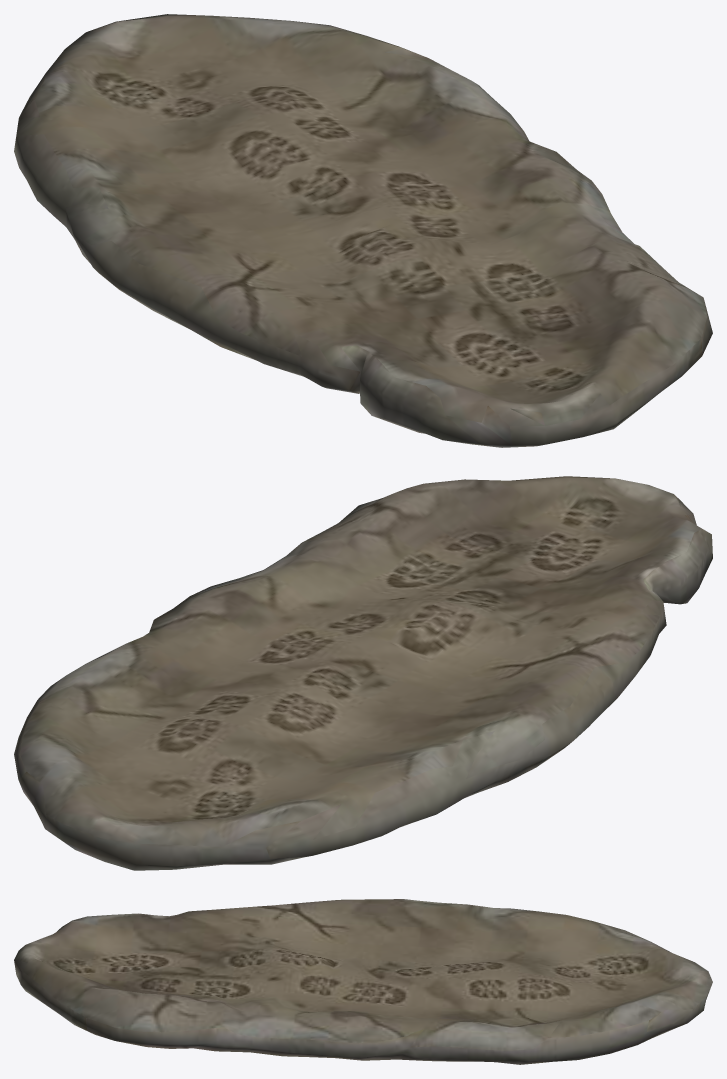
The model's file is mt_pegadas.glb.
3 views of the same model, one above another, from view 1: azimuth 30°, elevation 25°; view 2: azimuth 150°, elevation 25°; view 3: azimuth 270°, elevation 25° (orthographic). The views are drawn at different scales.
Visible parts, largest first — view 1: Mesh_0.014; view 2: Mesh_0.014; view 3: Mesh_0.014.
Boxes of the visible parts, left/top/right/bottom form: Mesh_0.014: left=14, top=14, right=712, bottom=447; Mesh_0.014: left=14, top=476, right=712, bottom=870; Mesh_0.014: left=14, top=899, right=712, bottom=1064.
Bounding box in the file's own units: 0.1515 × 0.019 × 0.2988.
Materials: 1 (1 with a texture image).
